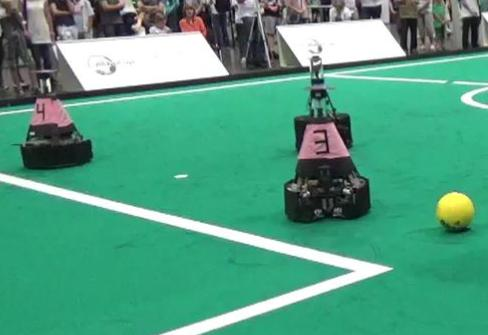robot: (280, 83, 376, 224), (18, 68, 96, 172)
